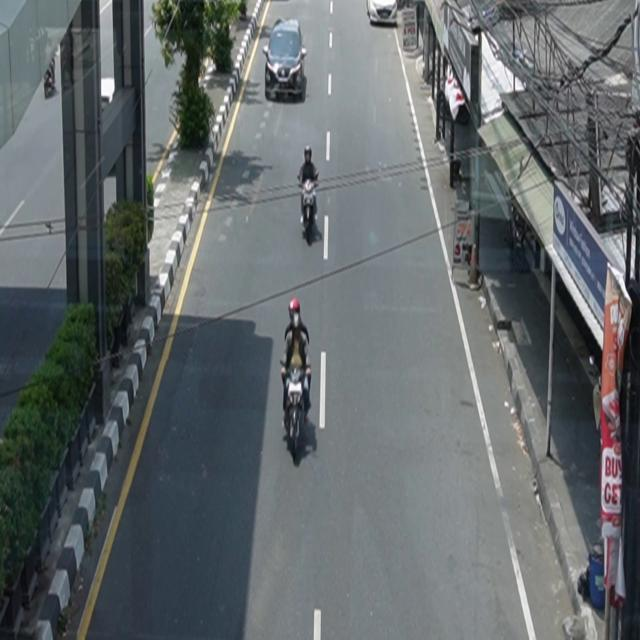car: (263, 18, 308, 101), (367, 1, 399, 26)
